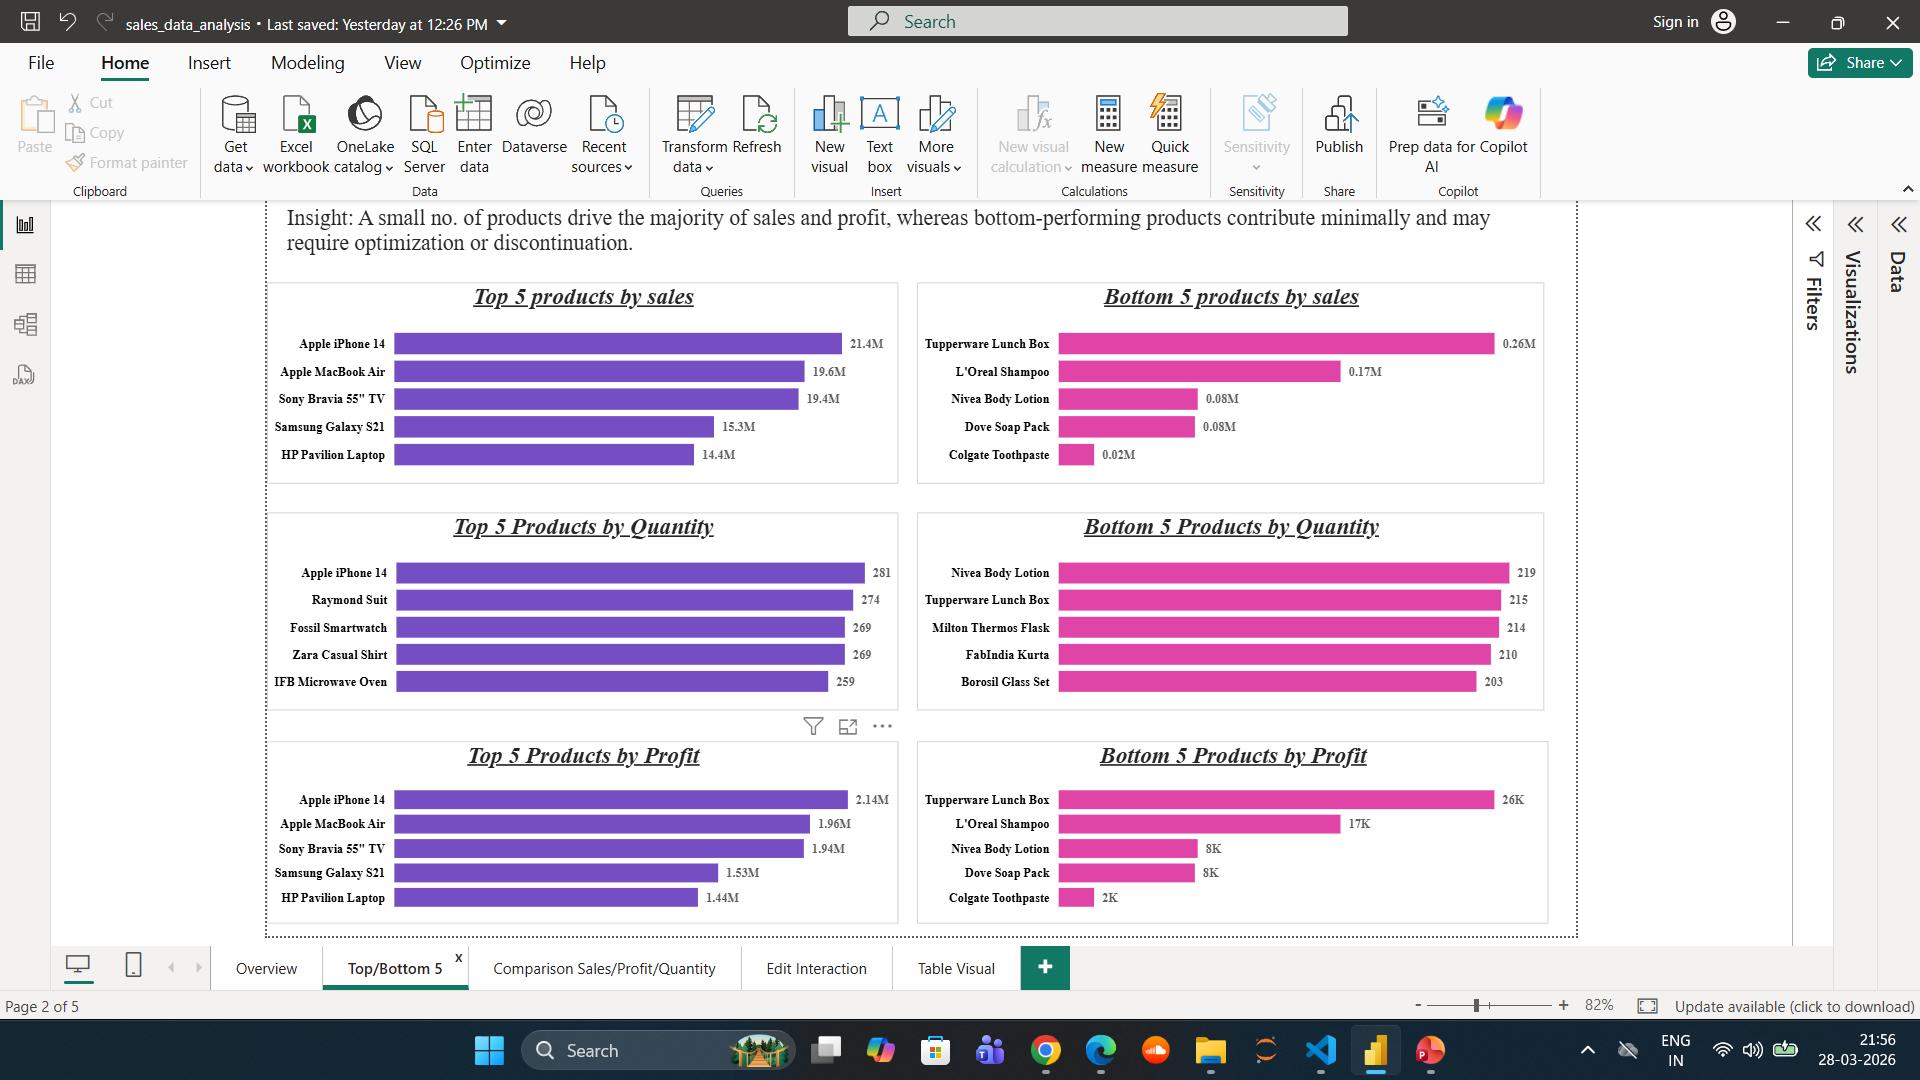

Layout of this report page (visuals, bound fields, positions):
{"tool":"powerbi","page":{"name":"Top/Bottom 5","canvas":[1280,720],"ordinal":0},"visuals":[{"type":"barChart","title":"Top 5 products by sales","fields":{"Category":["Dim Product.Product Name"],"Y":["Sum(Sheet3.Net Sales)"]},"box":[0,49.4,617.5,193.5],"z":0},{"type":"barChart","title":"Bottom 5 products by sales","fields":{"Category":["Dim Product.Product Name"],"Y":["Sum(Sheet3.Net Sales)"]},"box":[639.5,49.4,594.2,193.5],"z":1000},{"type":"barChart","title":"Top 5 Products by Quantity","fields":{"Category":["Dim Product.Product Name"],"Y":["Sum(Sheet3.Units Sold)"]},"box":[0,279.9,617.5,201.7],"z":2000},{"type":"barChart","title":"Bottom 5 Products by Quantity","fields":{"Category":["Dim Product.Product Name"],"Y":["Sum(Sheet3.Units Sold)"]},"box":[639.5,279.9,613.4,201.7],"z":3000},{"type":"barChart","title":"Top 5 Products by Profit","fields":{"Category":["Dim Product.Product Name"],"Y":["Sum(Sheet3.Profit)"]},"box":[0,506.3,617.5,201.7],"z":4000},{"type":"barChart","title":"Bottom 5 Products by Profit","fields":{"Category":["Dim Product.Product Name"],"Y":["Sum(Sheet3.Profit)"]},"box":[635.3,506.3,617.5,201.7],"z":5000}]}

Visuals, with their boxes on the page's 1280x720 design canvas (x1, y1, x2, y2). These are canvas units, not pixel positions in the 1920x1080 screenshot, which may show the page scaled, cropped or inside an application window:
"Top 5 products by sales" barChart: locate(0, 49, 618, 243)
"Bottom 5 products by sales" barChart: locate(640, 49, 1234, 243)
"Top 5 Products by Quantity" barChart: locate(0, 280, 618, 482)
"Bottom 5 Products by Quantity" barChart: locate(640, 280, 1253, 482)
"Top 5 Products by Profit" barChart: locate(0, 506, 618, 708)
"Bottom 5 Products by Profit" barChart: locate(635, 506, 1253, 708)
